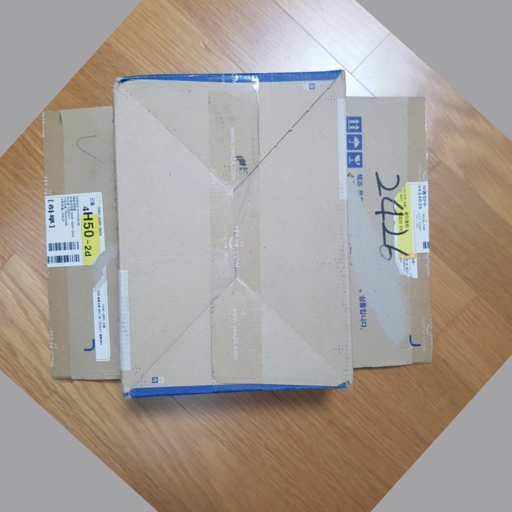Paper_0: (37, 67, 439, 399)
